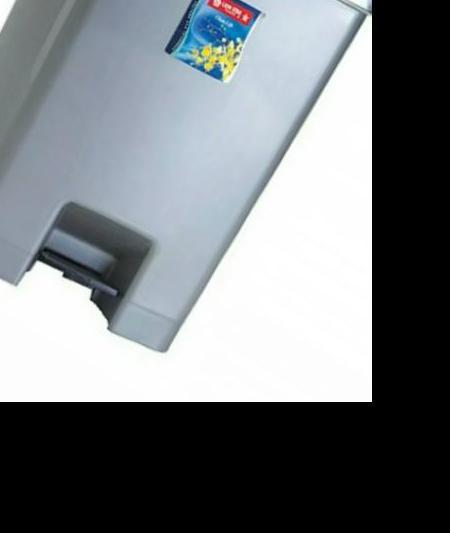Bote de Basura: (0, 0, 371, 354)
